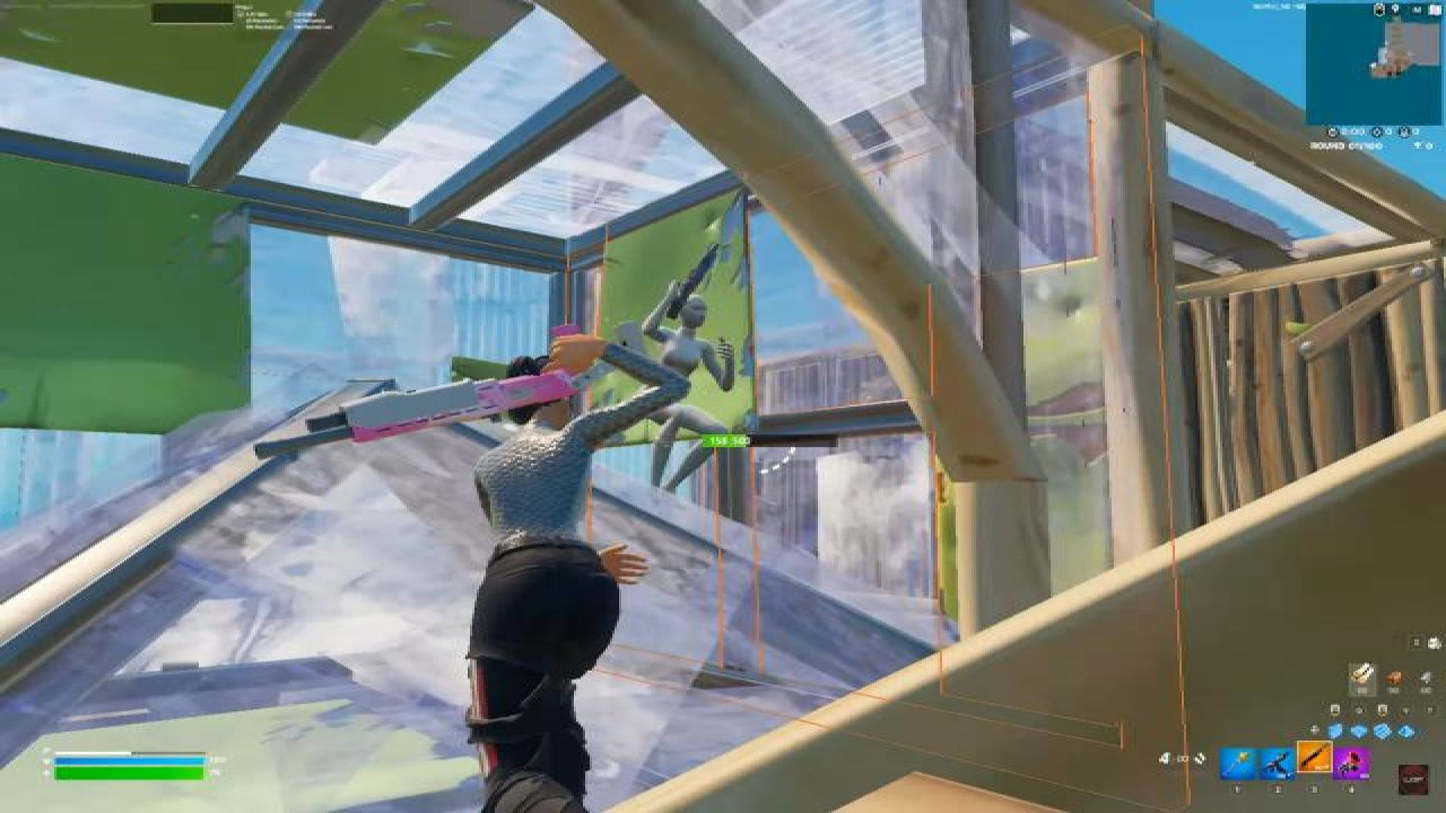player: (648, 289, 737, 489)
